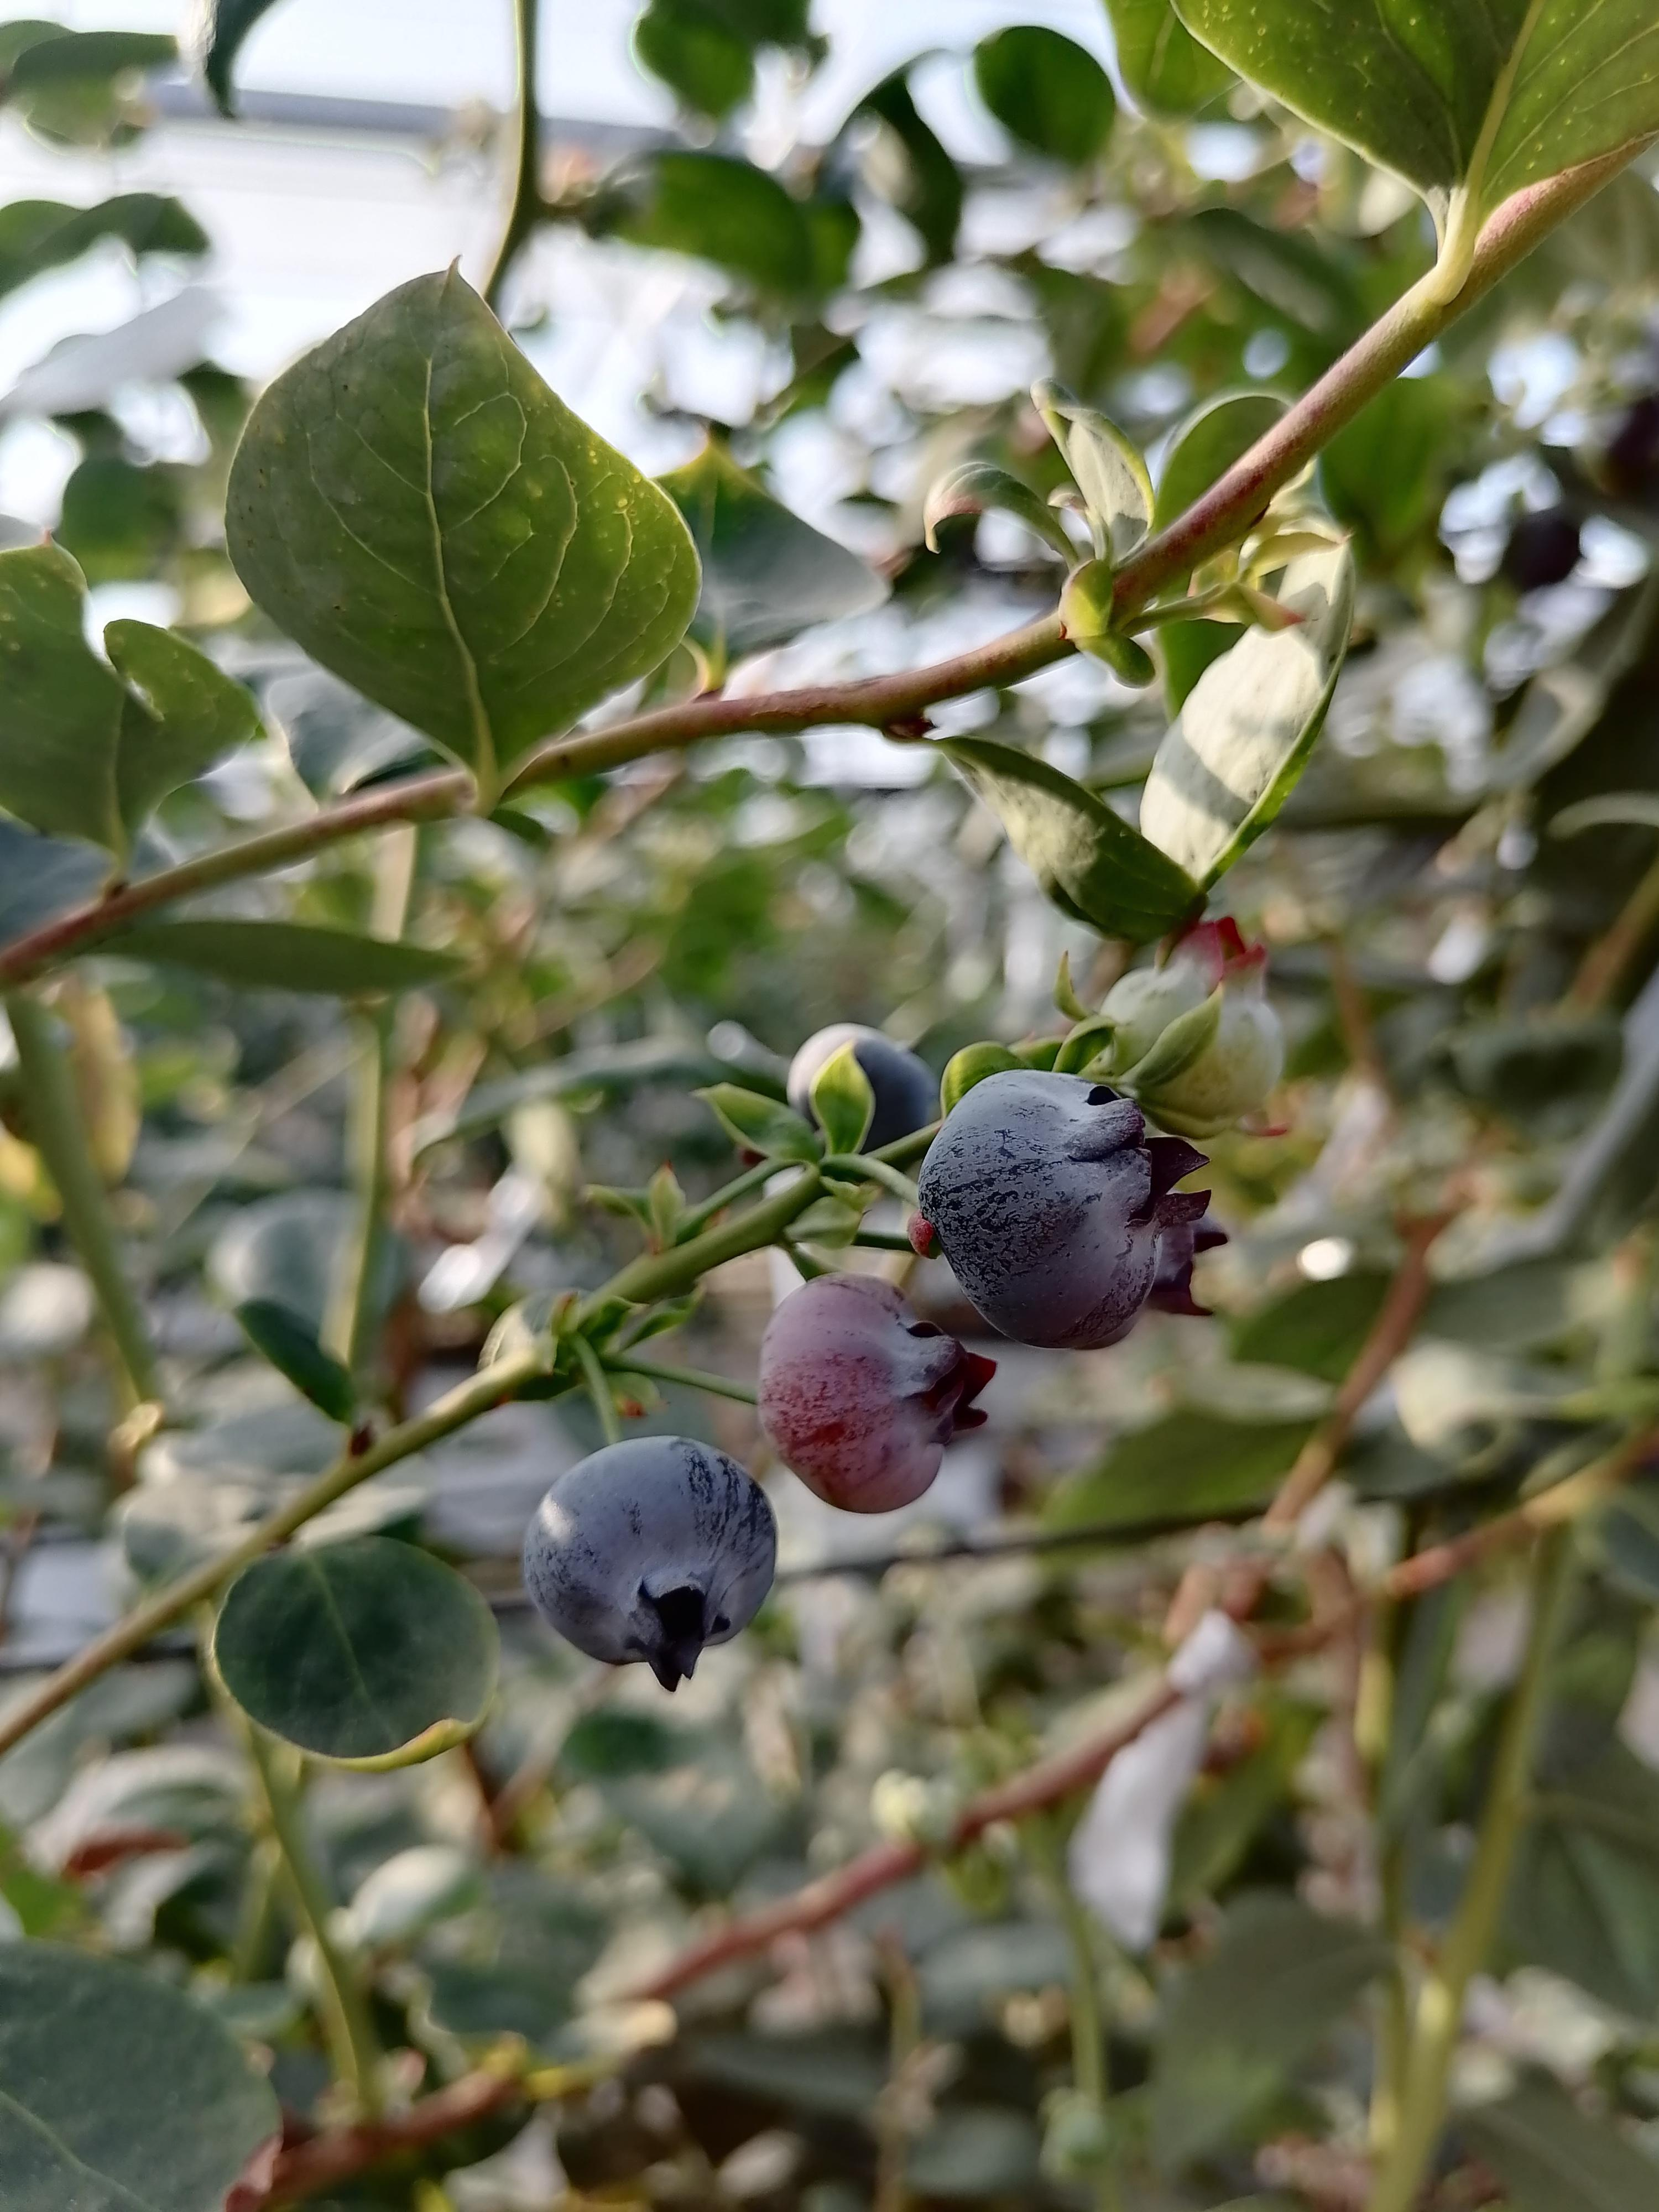ripe-blueberries: (918, 1068, 1234, 1357), (519, 1435, 781, 1696), (786, 1022, 931, 1172)
